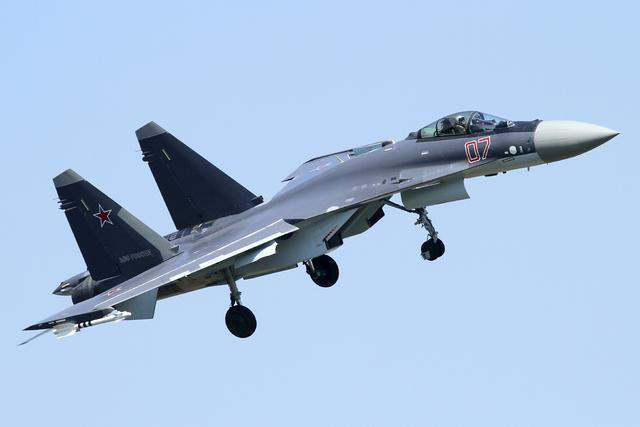airplane: (6, 96, 621, 356)
